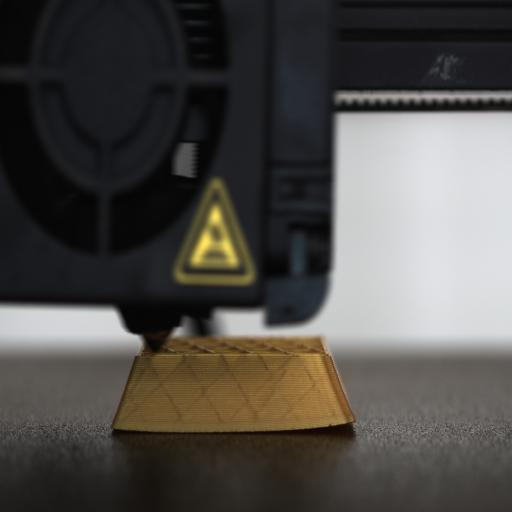warp: (310, 400, 363, 434)
